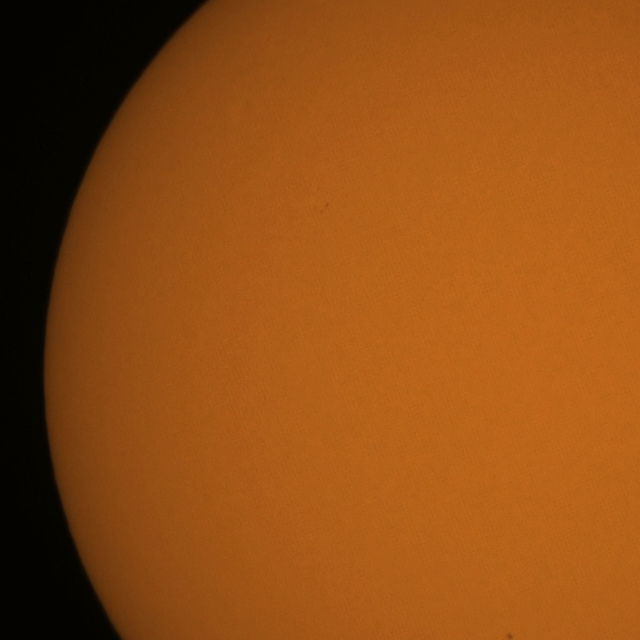sunspot: (506, 632, 515, 640)
